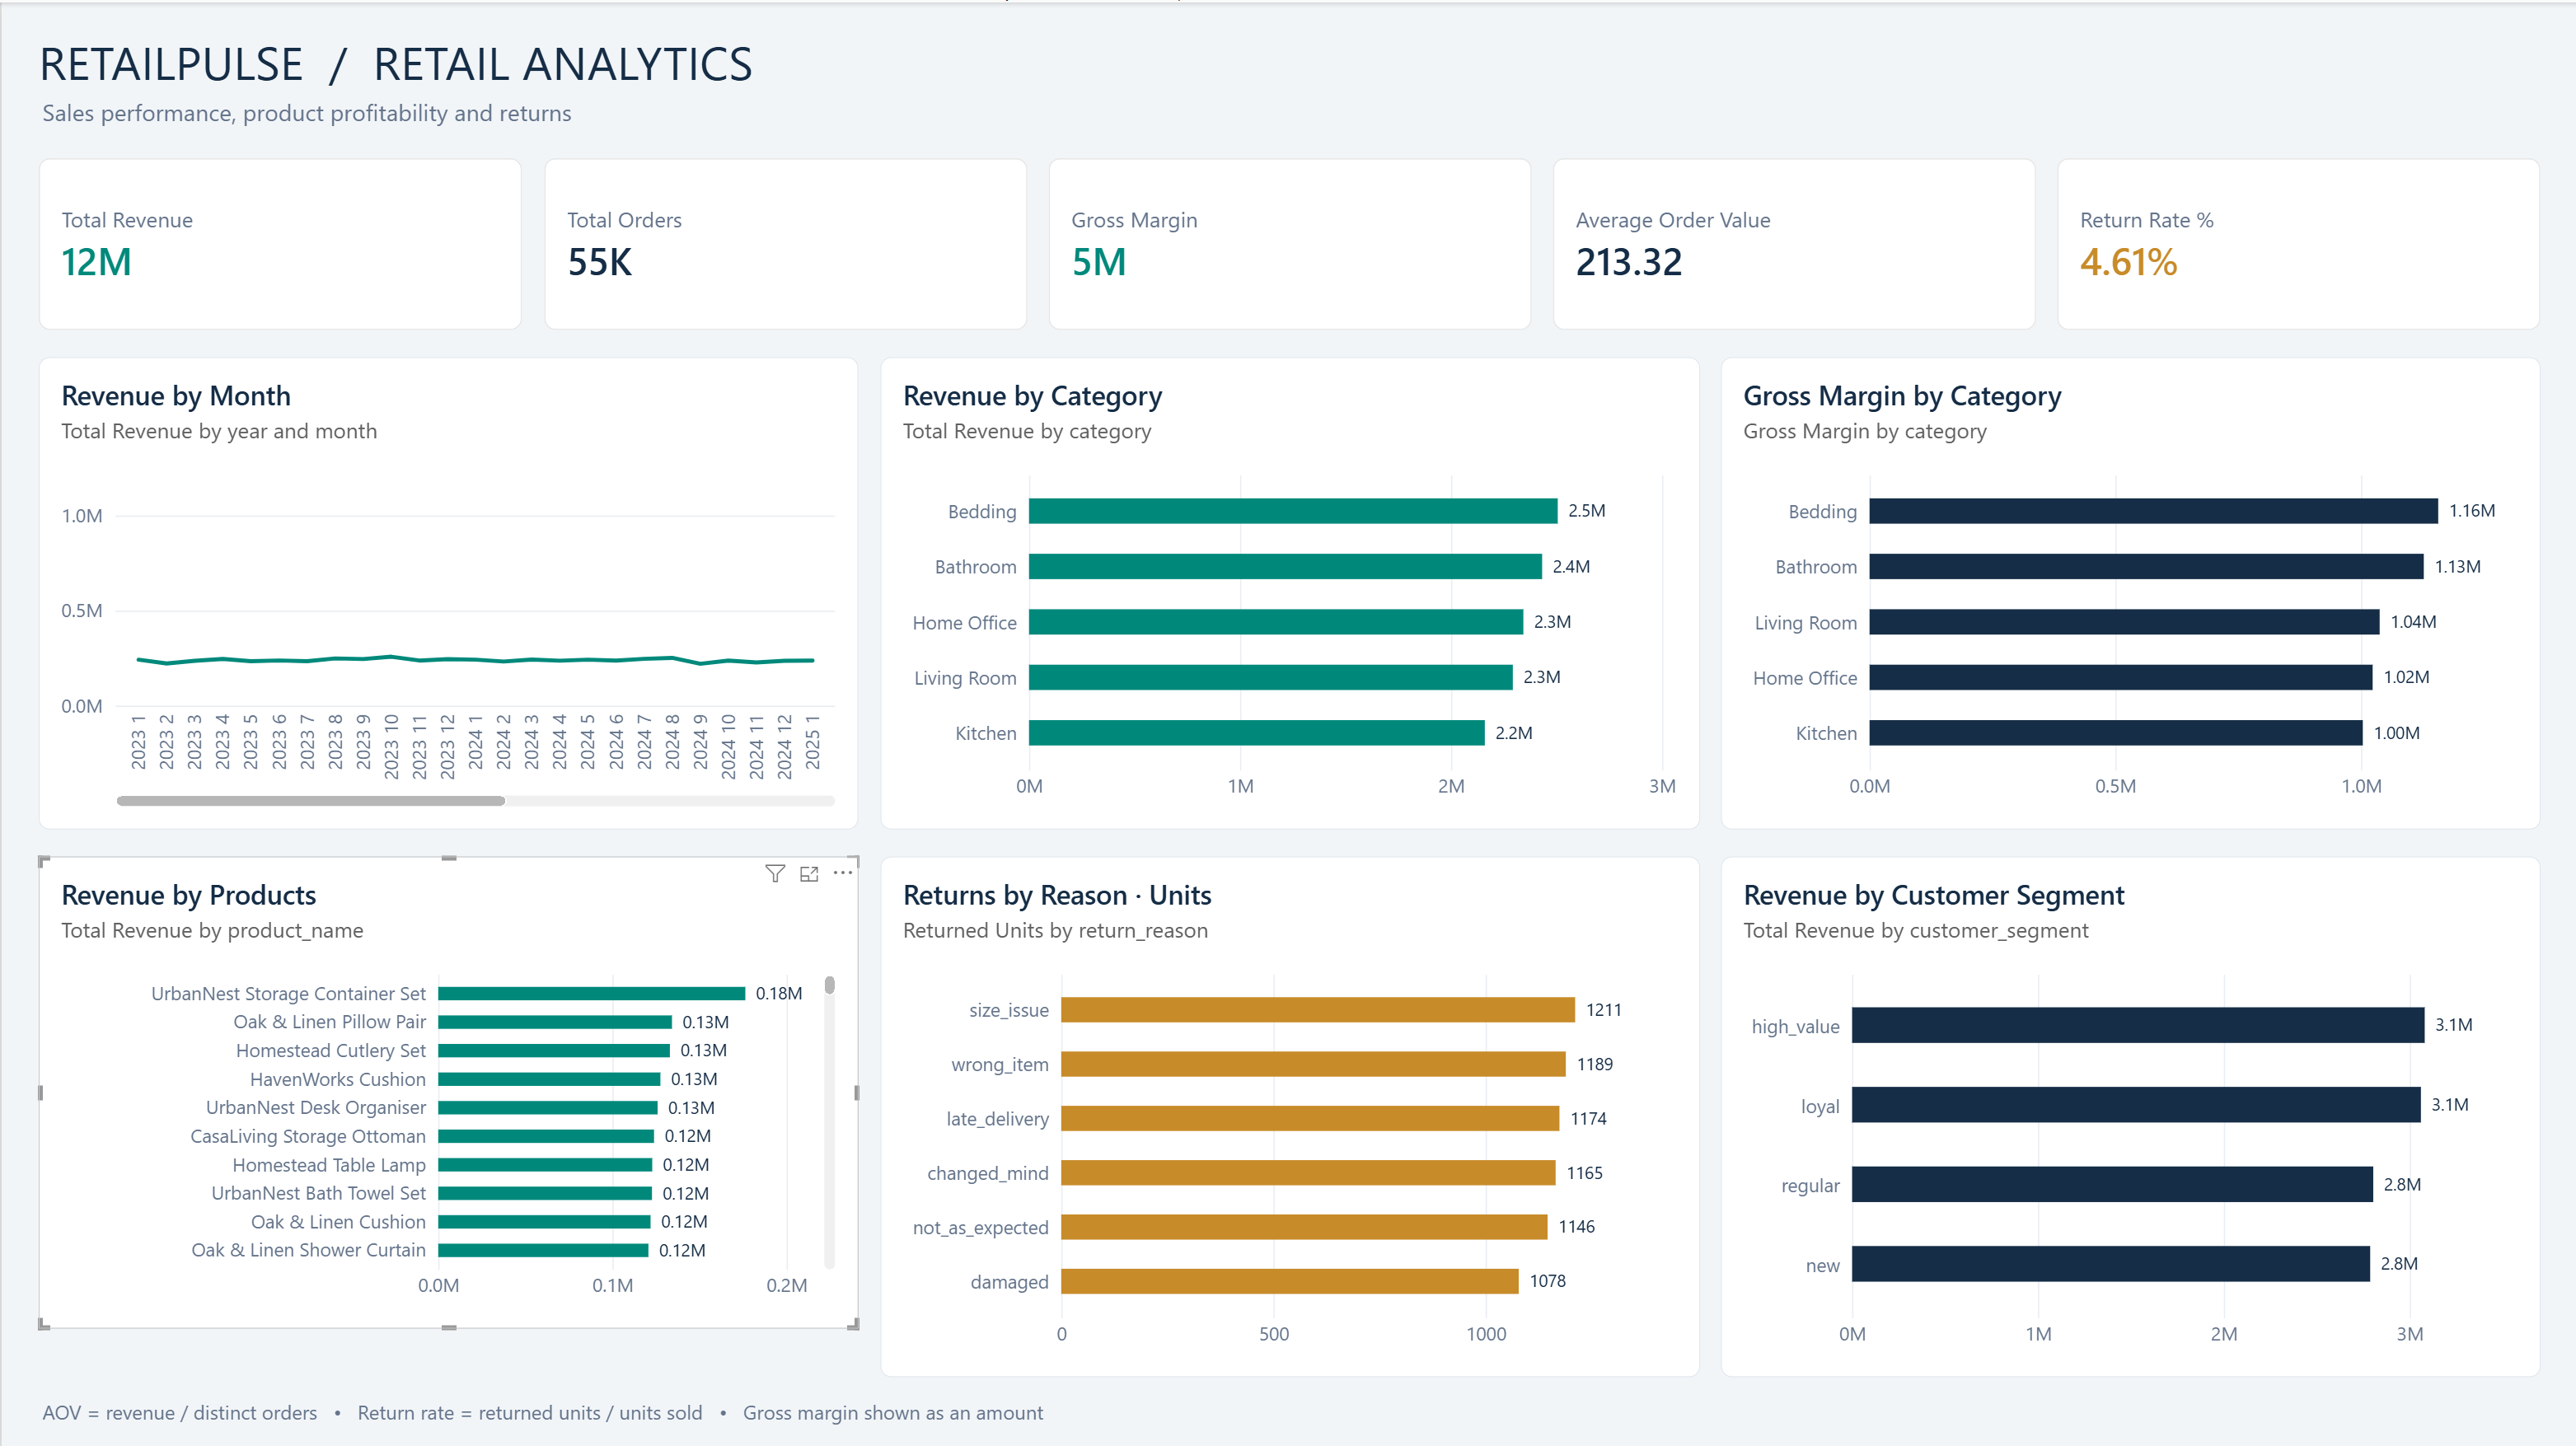

What the dashboard file says about the page in this screenshot:
{"tool":"powerbi","page":{"name":"Retail Overview","canvas":[1920,1080],"ordinal":0},"visuals":[{"type":"textbox","box":[28,20,1300,48],"z":0},{"type":"textbox","box":[30,70,1500,30],"z":1},{"type":"cardVisual","fields":{"Data":["fact_sales.Total Revenue"]},"box":[28,116,360,128],"z":2},{"type":"cardVisual","fields":{"Data":["fact_sales.Total Orders"]},"box":[404,116,360,128],"z":3},{"type":"cardVisual","fields":{"Data":["fact_sales.Gross Margin"]},"box":[780,116,360,128],"z":4},{"type":"cardVisual","fields":{"Data":["fact_sales.Average Order Value"]},"box":[1156,116,360,128],"z":5},{"type":"cardVisual","fields":{"Data":["fact_returns.Return Rate %"]},"box":[1532,116,360,128],"z":6},{"type":"lineChart","title":"Revenue by Month","fields":{"Category":["dim_date.year","dim_date.month"],"Y":["fact_sales.Total Revenue"]},"box":[28,264,610.7,352],"z":7},{"type":"clusteredBarChart","title":"Revenue by Category","fields":{"Category":["dim_product.category"],"Y":["fact_sales.Total Revenue"]},"box":[654.7,264,610.7,352],"z":8},{"type":"clusteredBarChart","title":"Gross Margin by Category","fields":{"Category":["dim_product.category"],"Y":["fact_sales.Gross Margin"]},"box":[1281.3,264,610.7,352],"z":9},{"type":"clusteredBarChart","title":"Top 10 Products by Revenue","fields":{"Category":["dim_product.product_name"],"Y":["fact_sales.Total Revenue"]},"box":[28,636,610.7,388],"z":10},{"type":"clusteredBarChart","title":"Returns by Reason · Units","fields":{"Category":["fact_returns.return_reason"],"Y":["fact_returns.Returned Units"]},"box":[654.7,636,610.7,388],"z":11},{"type":"clusteredBarChart","title":"Revenue by Customer Segment","fields":{"Category":["dim_customer.customer_segment"],"Y":["fact_sales.Total Revenue"]},"box":[1281.3,636,610.7,388],"z":12},{"type":"textbox","box":[30,1040,1850,28],"z":13}]}

Visuals, with their boxes in screenshot pixels (x1, y1, x2, y2), scaled from the page's 1920x1080 canvas onto the 2576x1446 screenshot:
textbox: (x1=38, y1=26, x2=1782, y2=91)
textbox: (x1=40, y1=94, x2=2053, y2=133)
cardVisual - fact_sales.Total Revenue: (x1=38, y1=155, x2=521, y2=326)
cardVisual - fact_sales.Total Orders: (x1=542, y1=155, x2=1025, y2=326)
cardVisual - fact_sales.Gross Margin: (x1=1047, y1=155, x2=1529, y2=326)
cardVisual - fact_sales.Average Order Value: (x1=1551, y1=155, x2=2034, y2=326)
cardVisual - fact_returns.Return Rate %: (x1=2055, y1=155, x2=2538, y2=326)
"Revenue by Month" lineChart: (x1=38, y1=353, x2=857, y2=825)
"Revenue by Category" clusteredBarChart: (x1=878, y1=353, x2=1698, y2=825)
"Gross Margin by Category" clusteredBarChart: (x1=1719, y1=353, x2=2538, y2=825)
"Top 10 Products by Revenue" clusteredBarChart: (x1=38, y1=852, x2=857, y2=1371)
"Returns by Reason · Units" clusteredBarChart: (x1=878, y1=852, x2=1698, y2=1371)
"Revenue by Customer Segment" clusteredBarChart: (x1=1719, y1=852, x2=2538, y2=1371)
textbox: (x1=40, y1=1392, x2=2522, y2=1430)
